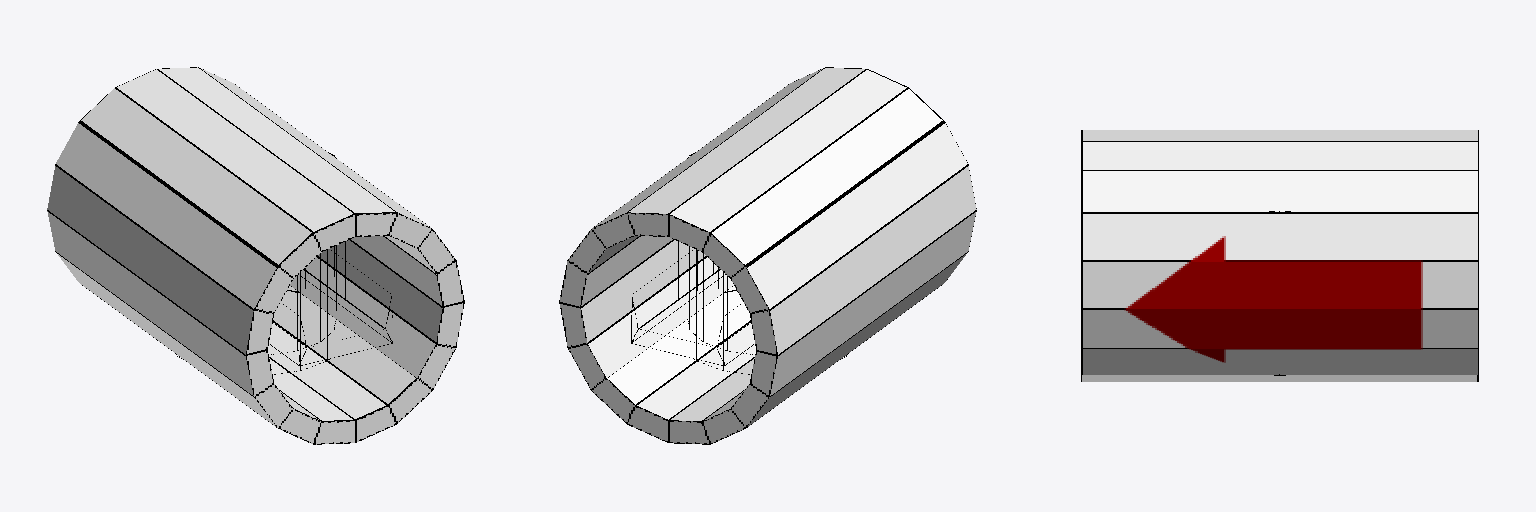
3 renders of one model, left to right at view 1: azimuth 30°, elevation 25°; view 2: azimuth 150°, elevation 25°; view 3: azimuth 270°, elevation 25°, orthographic.
Parts seen in each view (by area): view 1: Cylinder4, Finish; view 2: Cylinder4, Finish; view 3: Cylinder4.
Boxes of the visible parts, <box> form: Cylinder4: <box>47,67,464,444</box>; Finish: <box>175,152,345,374</box>; Cylinder4: <box>559,67,976,444</box>; Finish: <box>678,152,848,374</box>; Cylinder4: <box>1081,130,1478,381</box>.
Size of the model in its own units: 1.4 by 1.4 by 2.2.
Materials: 3 (3 with a texture image).